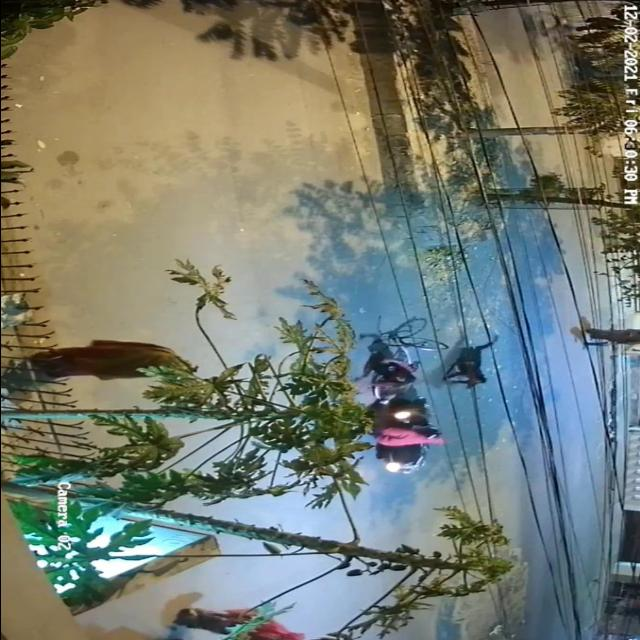accident: (357, 314, 505, 477)
